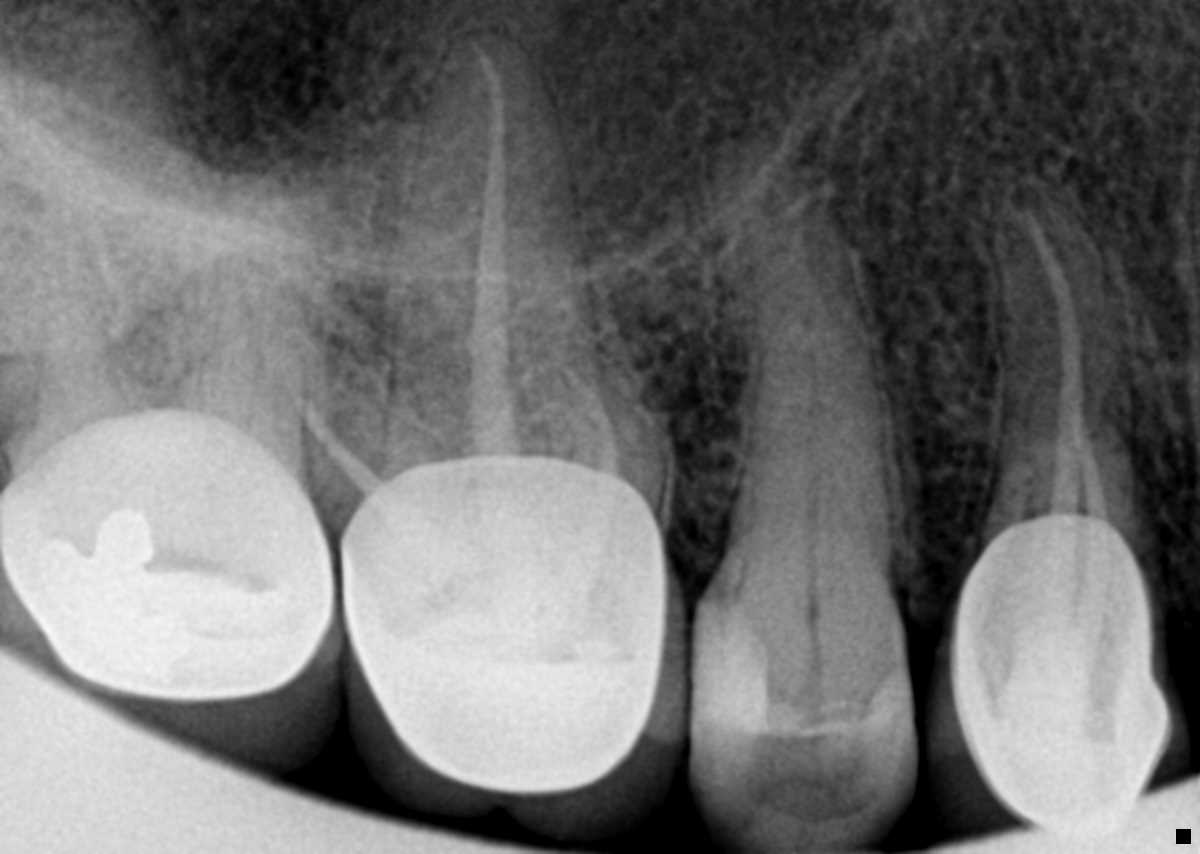Distal Root: (256, 336, 452, 527), (0, 226, 126, 472)
Main Canal: (797, 291, 821, 565)
Main Root: (712, 133, 895, 569), (985, 187, 1149, 535)
Mesial Root: (183, 228, 309, 472), (519, 326, 672, 503)
Palatal Root: (379, 29, 617, 493), (0, 0, 263, 401)
Root Canal Filling: (1017, 207, 1112, 531), (464, 33, 521, 460), (284, 378, 405, 510), (562, 368, 615, 476)
